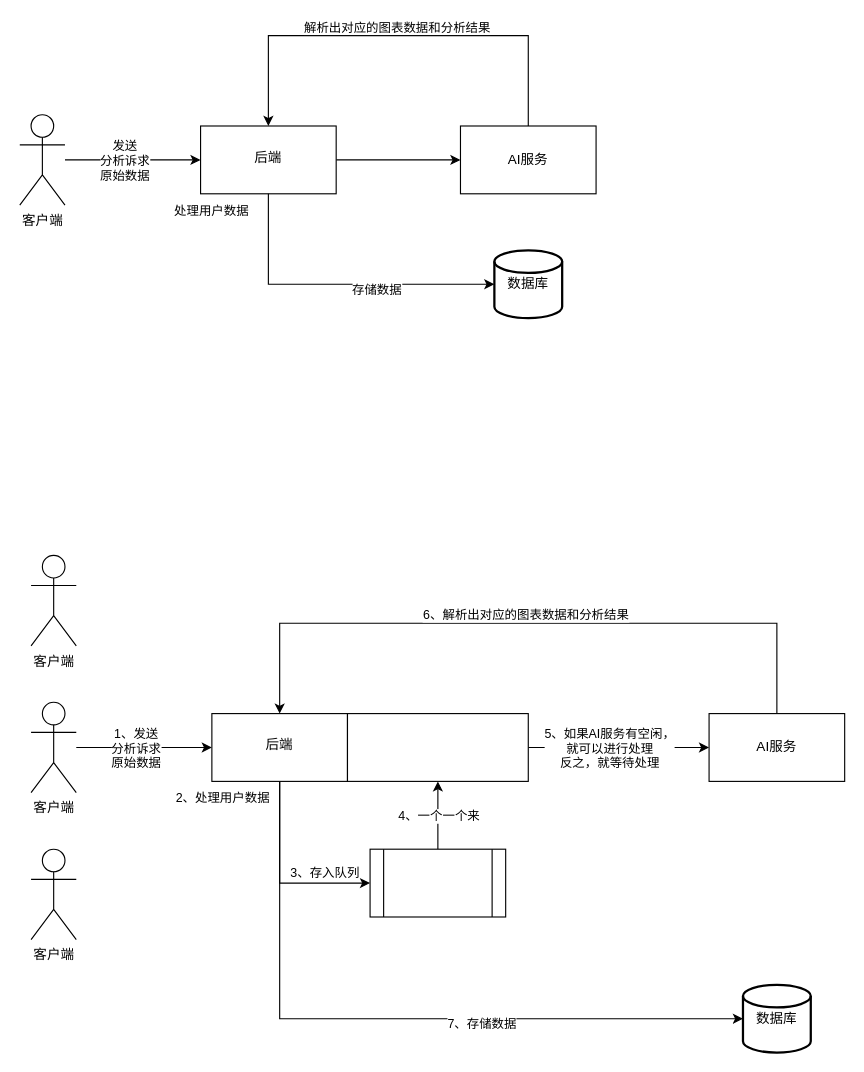
This 864x1072 diagram has some shape labels left out. The shapes that lost their labels are listed below. From the top down, each one's centre as x and y in pixels, then its label:
pixel 437 746: 任务处理模块
pixel 437 882: 消息队列
